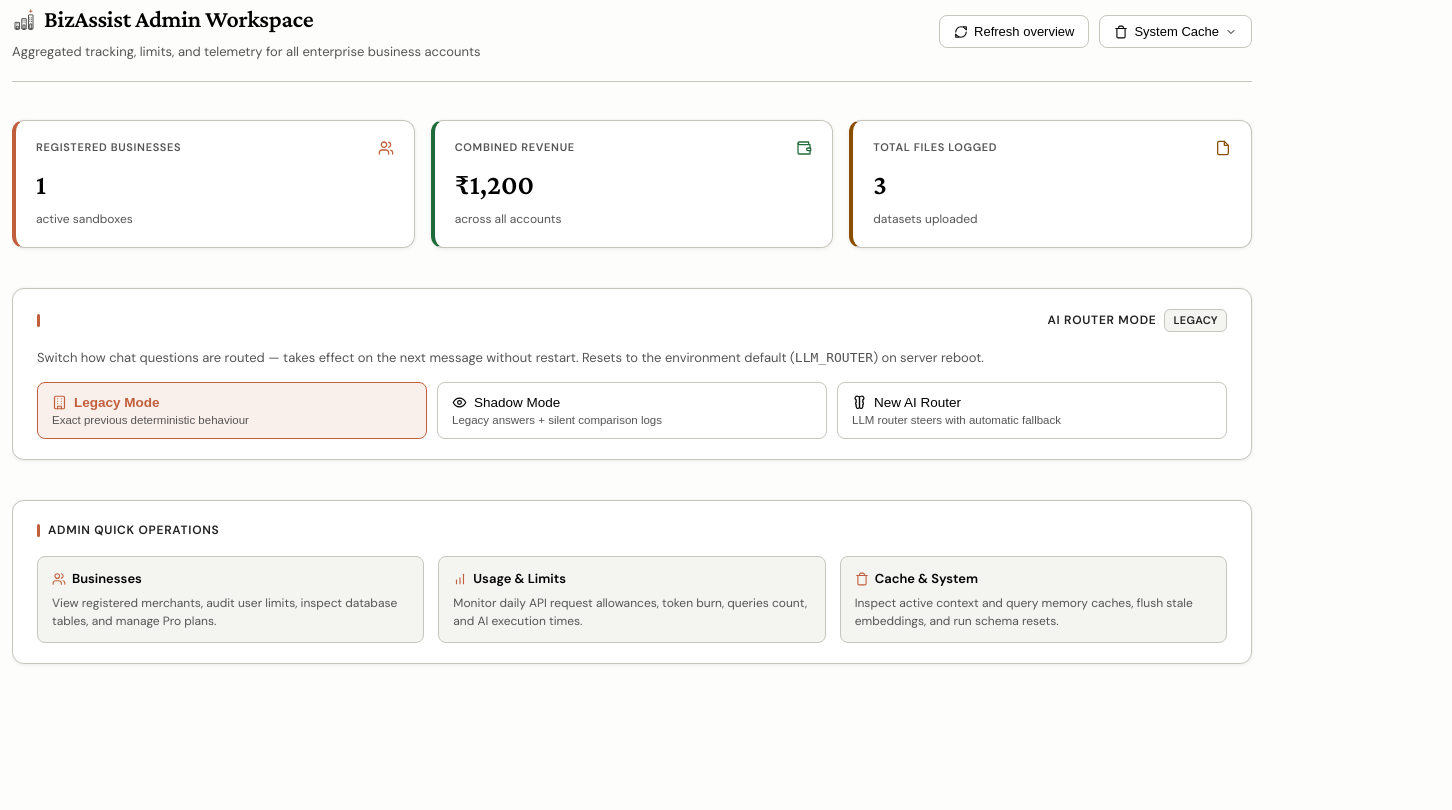
Test: Admin overview load state › retains known data with a stale-data notice after a failed refresh and recovers on retry
Expected: the text "₹1,200" is shown, [455,169,534,200]
Step 1. Click the button "Refresh overview" → (1014, 32), box [939,15,1089,48]
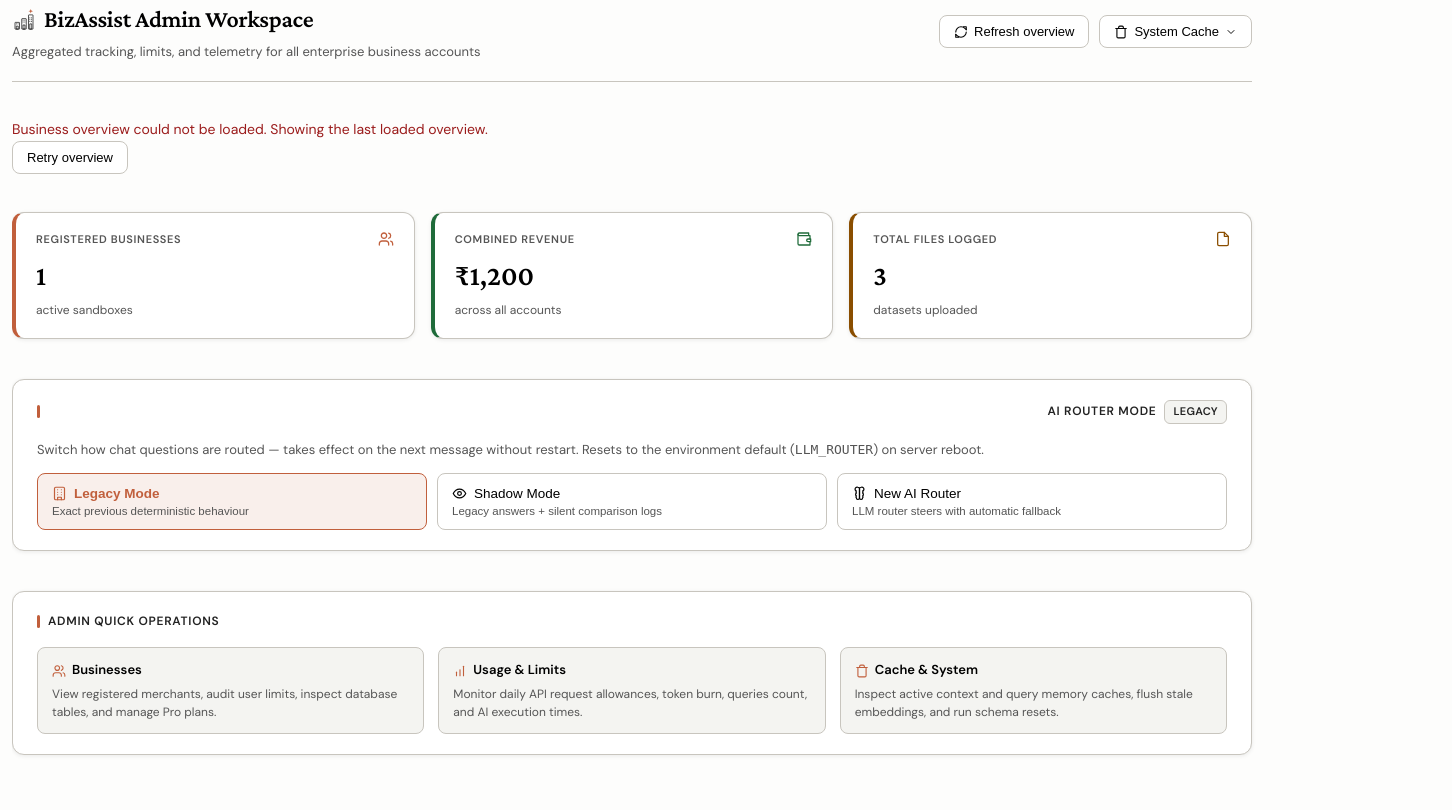
Expected: the text "₹1,200" is shown, [455,260,534,291]
Expected: the message shows "Showing the last loaded", [266,120,488,138]
Step 2. Click the button "Retry overview" → (70, 157), box [12,141,128,174]
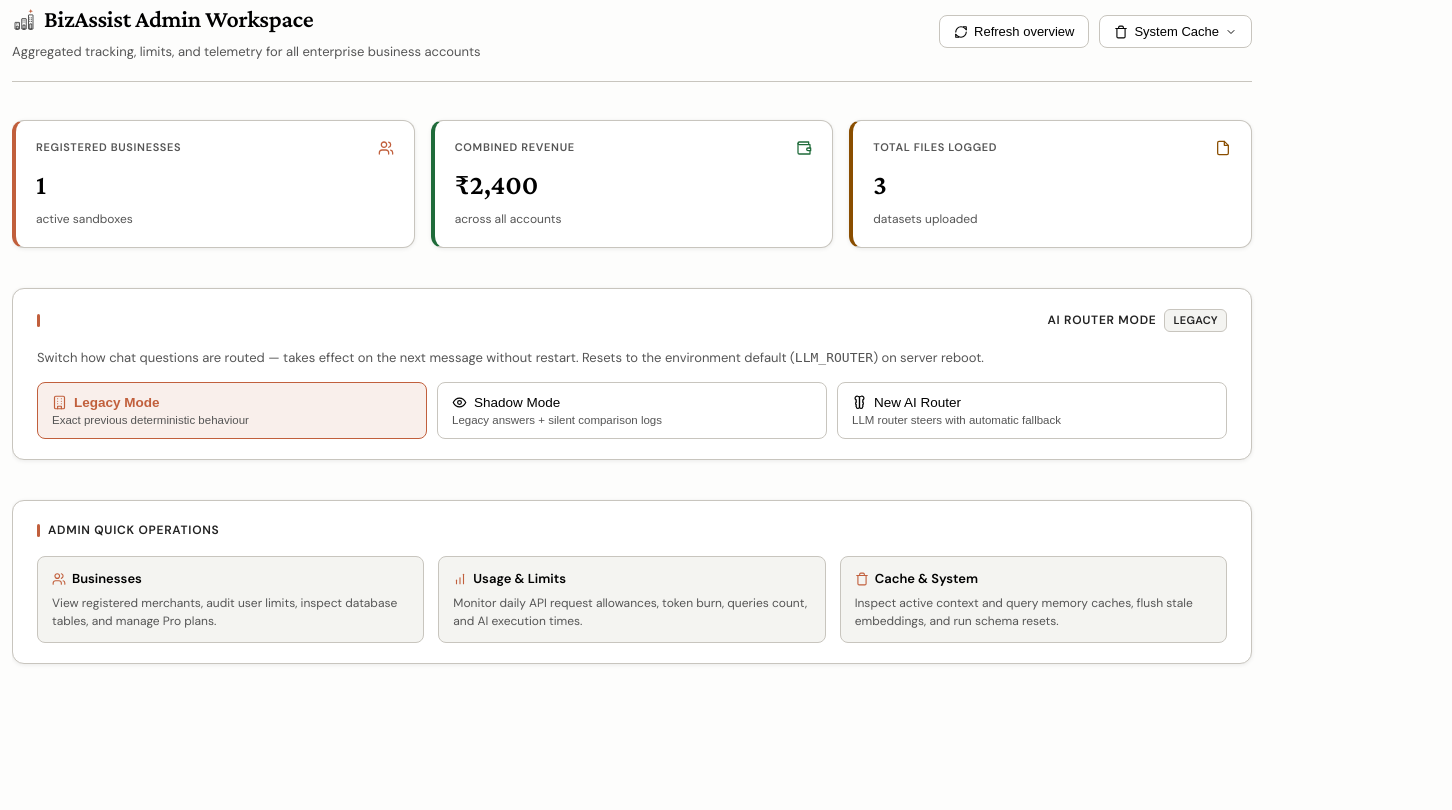
Expected: the text "₹2,400" is shown, [455,169,538,200]
Expected: the message is gone
